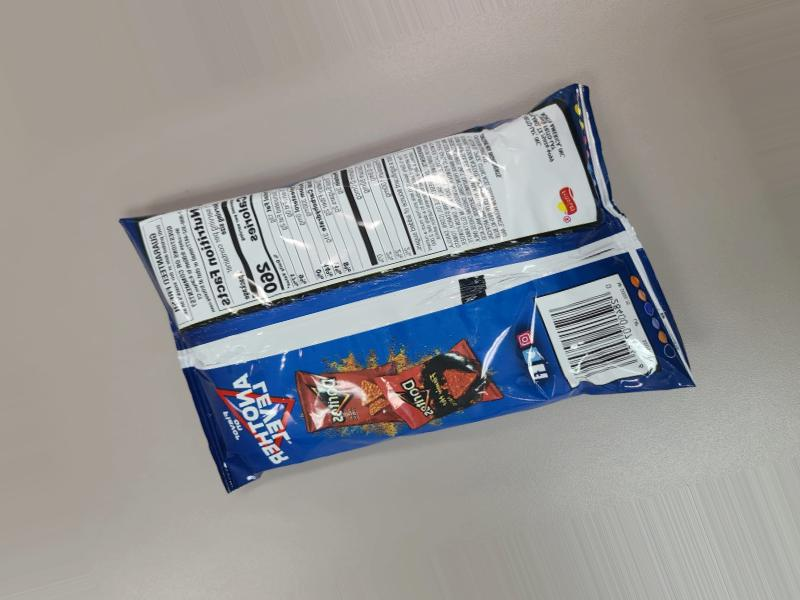doritos: (177, 72, 703, 481)
